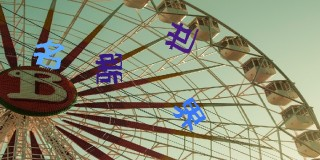世: (165, 21, 199, 55)
名: (33, 39, 62, 69)
界: (173, 98, 206, 132)
驰: (96, 52, 124, 83)
